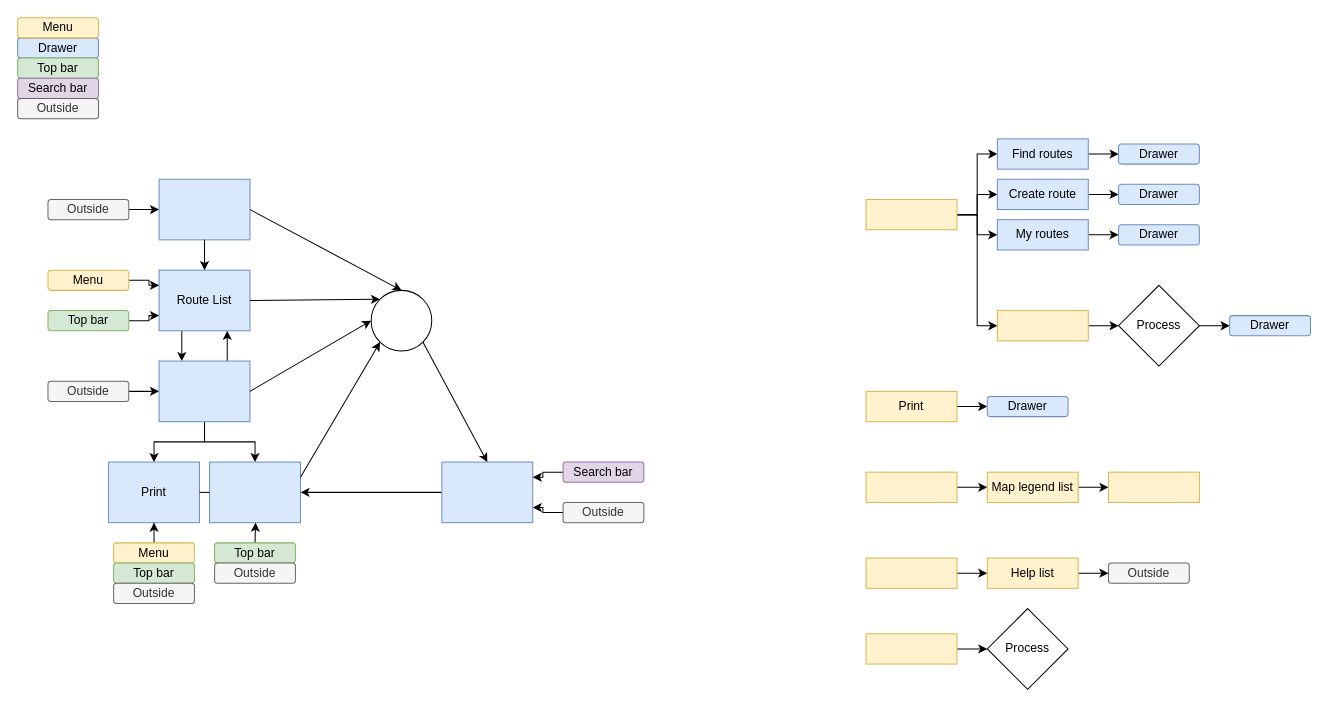
Some shapes in this 1328 by 707 pixel diagram are drawn without their labels. The shapes that lost their labels are listed below. From the top down, each one's centre as x and y in pixels, then its label:
At (x=204, y=209): "Teaser".
At (x=911, y=214): "Routes".
At (x=401, y=320): "Map".
At (x=1042, y=325): "Import GPX".
At (x=204, y=391): "Route Details".
At (x=254, y=492): "Create/Edit".
At (x=487, y=492): "Dropped pin".
At (x=911, y=486): "Map legend".
At (x=1153, y=486): "Map legend details".
At (x=911, y=572): "Help".
At (x=911, y=648): "Preferences".
